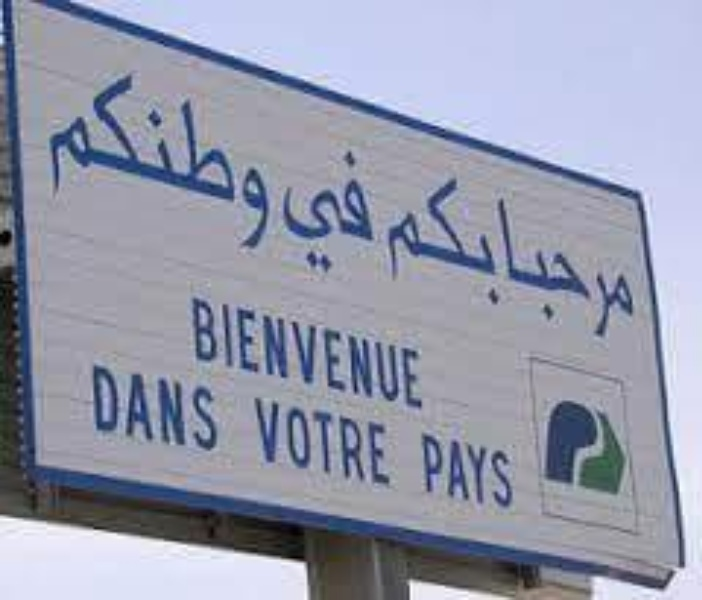text: (49, 44, 64, 255), (65, 44, 80, 255), (81, 44, 96, 255), (97, 44, 112, 255), (113, 44, 128, 255), (129, 44, 144, 255), (145, 44, 160, 255), (161, 44, 176, 255), (177, 44, 192, 255), (193, 44, 208, 255), (209, 44, 224, 255), (225, 44, 240, 255), (241, 44, 256, 255), (257, 44, 270, 255), (36, 44, 48, 255), (625, 194, 641, 346), (497, 194, 512, 346), (513, 194, 528, 346), (529, 194, 544, 346), (545, 194, 560, 346), (561, 194, 576, 346), (577, 194, 592, 346), (593, 194, 608, 346), (609, 194, 624, 346), (289, 141, 304, 281), (305, 141, 320, 281), (321, 141, 336, 281), (337, 141, 352, 281), (353, 141, 368, 281), (401, 173, 416, 308), (417, 173, 432, 308), (433, 173, 448, 308), (449, 173, 464, 308), (465, 173, 480, 308), (481, 173, 496, 308), (387, 173, 400, 308), (193, 293, 208, 410), (209, 293, 224, 410), (225, 293, 240, 410), (241, 293, 256, 410), (257, 293, 272, 410), (273, 293, 288, 410), (289, 293, 304, 410), (305, 293, 320, 410), (321, 293, 336, 410), (337, 293, 352, 410), (353, 293, 368, 410), (369, 293, 384, 410), (385, 293, 400, 410), (401, 293, 416, 410), (369, 141, 381, 281), (257, 393, 272, 489), (273, 393, 288, 489), (289, 393, 304, 489), (305, 393, 320, 489), (321, 393, 336, 489), (337, 393, 352, 489), (353, 393, 368, 489), (369, 393, 384, 489), (97, 363, 112, 454), (113, 363, 128, 454), (129, 363, 144, 454), (145, 363, 160, 454), (161, 363, 176, 454), (177, 363, 192, 454), (193, 363, 208, 454), (417, 293, 428, 410), (209, 363, 223, 454), (433, 431, 448, 510), (449, 431, 464, 510), (465, 431, 480, 510), (481, 431, 496, 510), (497, 431, 512, 510), (182, 293, 192, 410), (419, 431, 432, 510), (281, 141, 288, 281), (88, 363, 96, 454), (492, 194, 496, 346), (497, 173, 501, 308), (385, 393, 390, 489), (252, 393, 256, 489), (513, 431, 515, 510)
